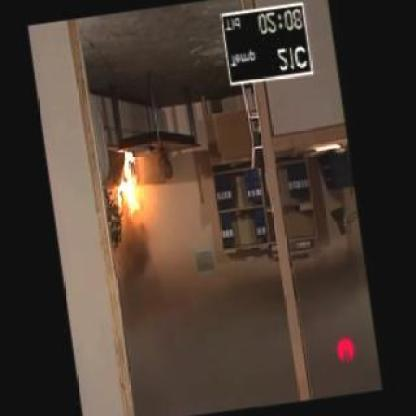Fire: (107, 137, 145, 236)
